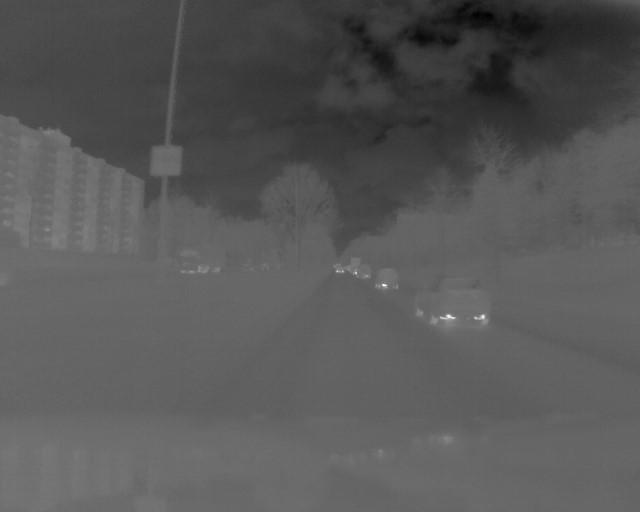car: (405, 271, 506, 319), (168, 241, 224, 275), (375, 268, 401, 291), (356, 257, 374, 281), (328, 261, 351, 276)
